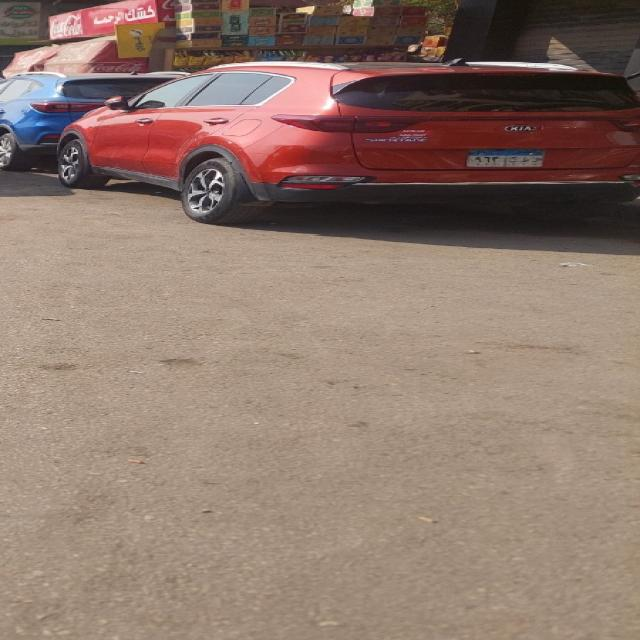car-plate: (472, 151, 544, 166)
